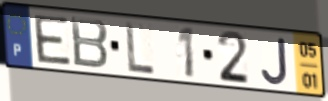1: (173, 25, 196, 80)
2: (215, 29, 251, 87)
B: (68, 15, 110, 72)
E: (31, 13, 73, 68)
J: (259, 36, 290, 87)
L: (123, 19, 157, 76)
